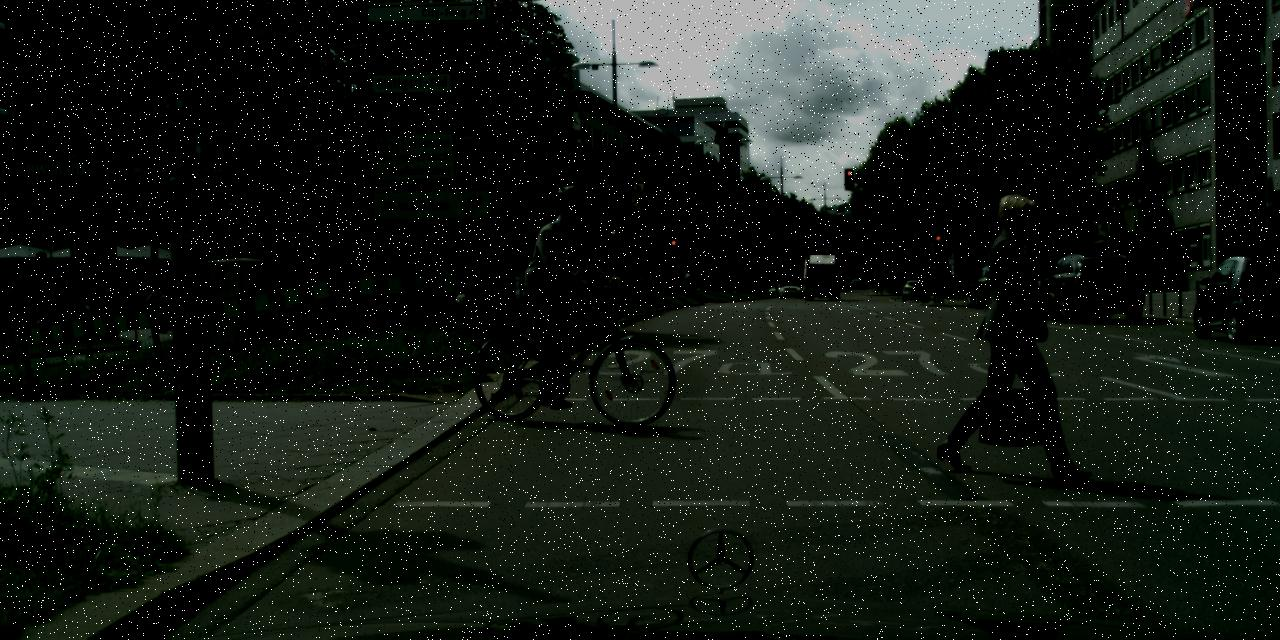ped: (954, 192, 1068, 472), (522, 184, 604, 387), (683, 268, 696, 302), (52, 280, 64, 308), (877, 277, 883, 294), (891, 278, 896, 293)
